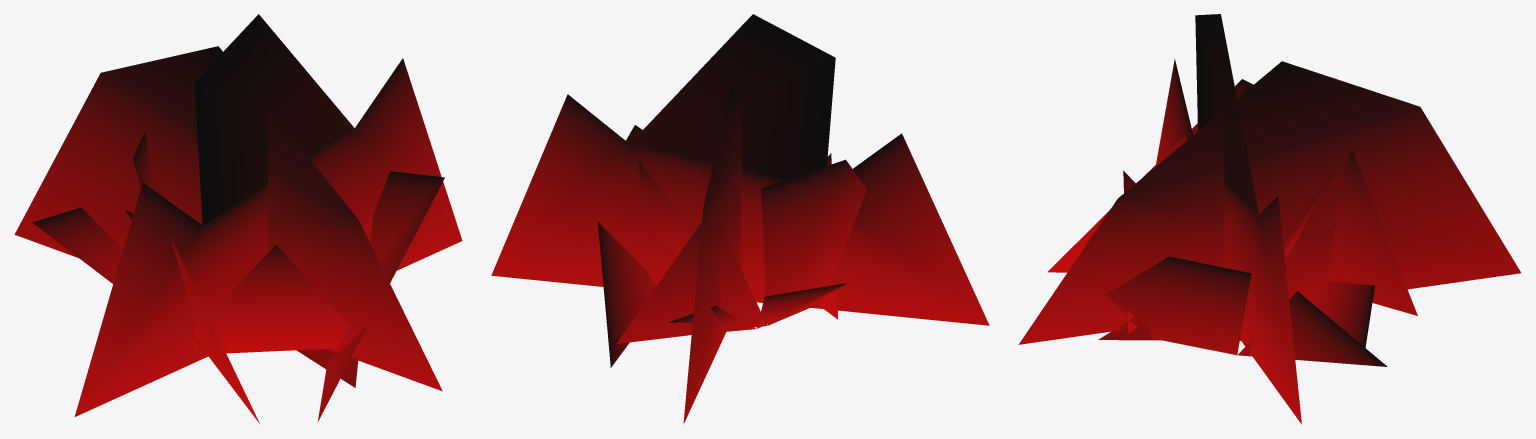
The model's file is Plants_f_grass03_01.fbx.
3 renders of one model, left to right at view 1: azimuth 30°, elevation 25°; view 2: azimuth 150°, elevation 25°; view 3: azimuth 270°, elevation 25°, orthographic. The views are drawn at different scales.
Parts seen in each view (by area): view 1: 200011_f_grass_01_01; view 2: 200011_f_grass_01_01; view 3: 200011_f_grass_01_01.
Boxes of the visible parts, <box> form: 200011_f_grass_01_01: <box>14,14,462,423</box>; 200011_f_grass_01_01: <box>491,14,989,424</box>; 200011_f_grass_01_01: <box>1018,14,1521,424</box>.
Size of what is drawn, in the model's own units: 69.14 by 48.33 by 68.47.
